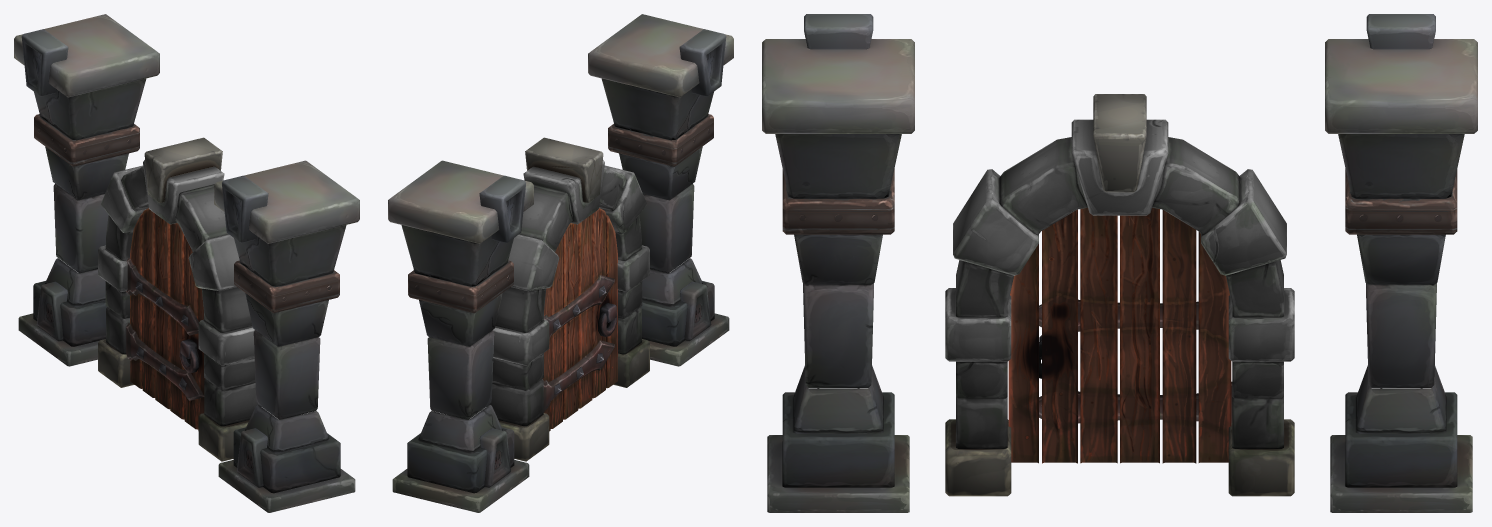
File: stylized_assets.glb
3 renders of one model, left to right at view 1: azimuth 30°, elevation 25°; view 2: azimuth 150°, elevation 25°; view 3: azimuth 270°, elevation 25°, orthographic. The views are drawn at different scales.
Visible parts, largest first — view 1: Pillars, Door, DoorPlanks; view 2: Pillars, Door, DoorPlanks; view 3: Pillars, Door, DoorPlanks.
Boxes of the visible parts, x1,y1,x2,y2 form: Pillars: [14, 14, 359, 512]; Door: [98, 137, 260, 461]; DoorPlanks: [130, 208, 205, 430]; Pillars: [388, 14, 733, 512]; Door: [487, 137, 649, 461]; DoorPlanks: [542, 208, 617, 431]; Pillars: [762, 14, 1477, 512]; Door: [945, 94, 1294, 496]; DoorPlanks: [1008, 207, 1231, 463].
Size of the model in its own units: 175 by 509 by 763.
Materials: 2 (2 with a texture image).
